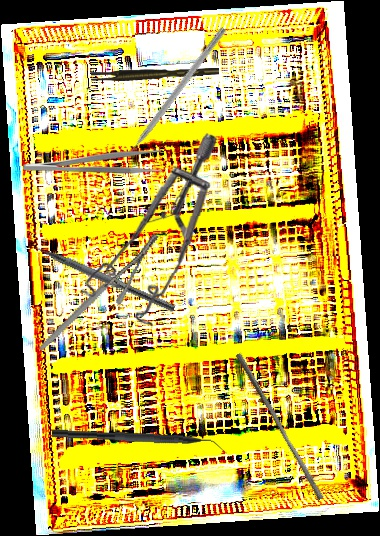Chopper: (113, 21, 227, 165), (20, 230, 181, 313), (51, 428, 228, 456)
Dressing Forceps: (23, 149, 162, 174)
Needle Holder: (15, 232, 182, 351)
Pusher: (229, 352, 330, 501)
Speculum: (78, 128, 218, 331)
Tissue Forceps: (91, 68, 219, 81)
